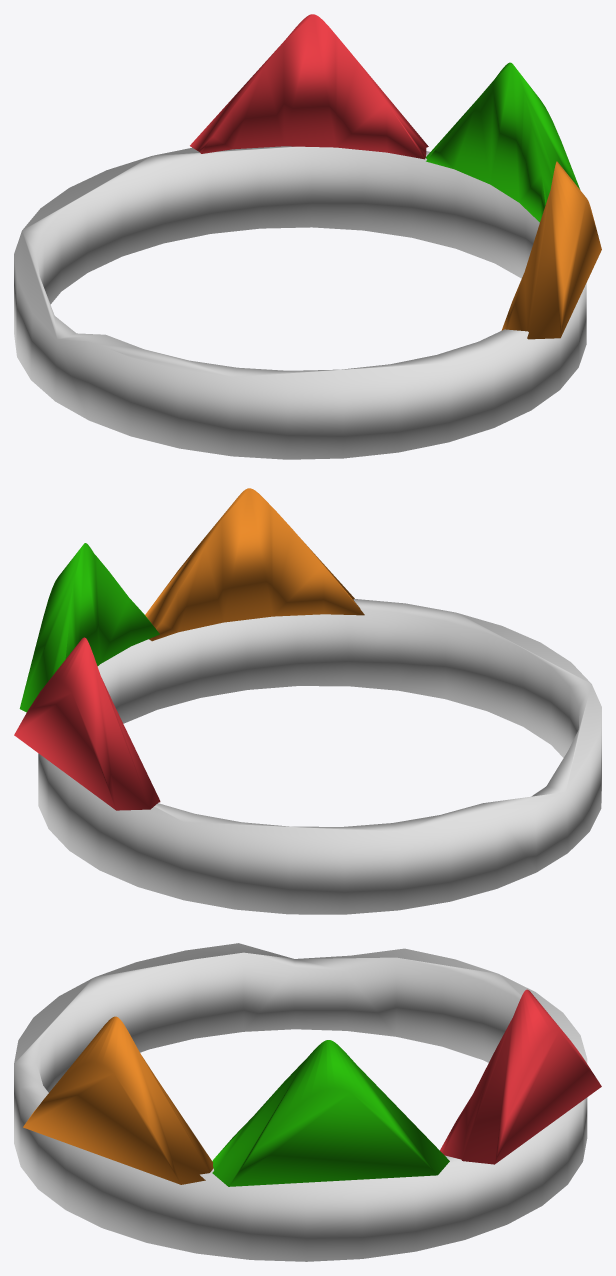
File: indian.fbx
3 views of the same model, one above another, from view 1: azimuth 30°, elevation 25°; view 2: azimuth 150°, elevation 25°; view 3: azimuth 270°, elevation 25° (orthographic).
Parts seen in each view (by area): view 1: 원뿔.001; view 2: 원뿔.001; view 3: 원뿔.001.
Boxes of the visible parts, x1,y1,x2,y2 form: 원뿔.001: (14, 14, 601, 459); 원뿔.001: (14, 488, 601, 914); 원뿔.001: (14, 943, 601, 1261).
Bounding box in the file's own units: 165 × 66.15 × 167.
